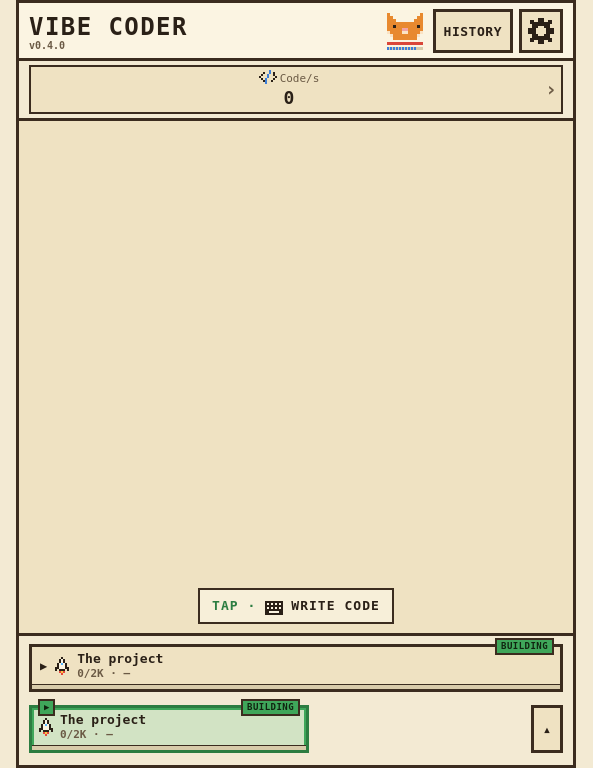
it: App navigation › opens Cat from the header and returns with browser Back
Click the button named "Cat.". click: (405, 32)
box: [383,9,427,54]
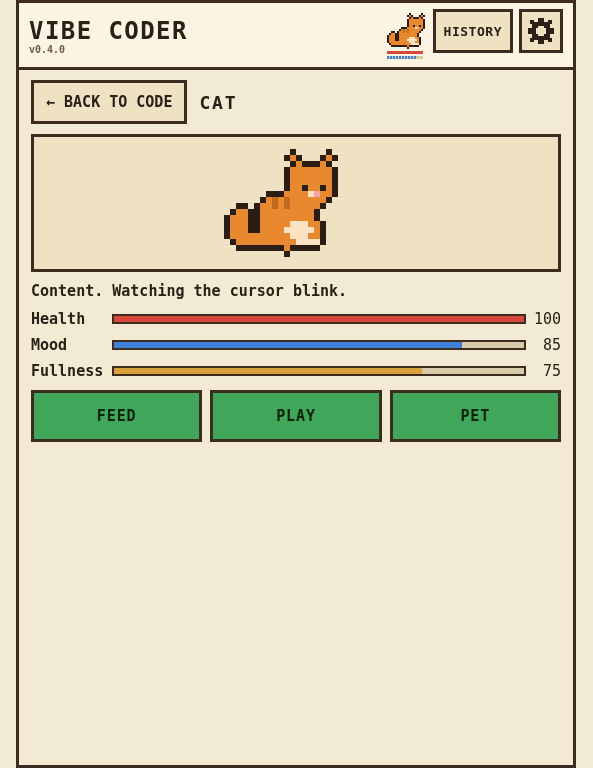
Now the heading "CAT" is shown, box [199,92,237,112]
